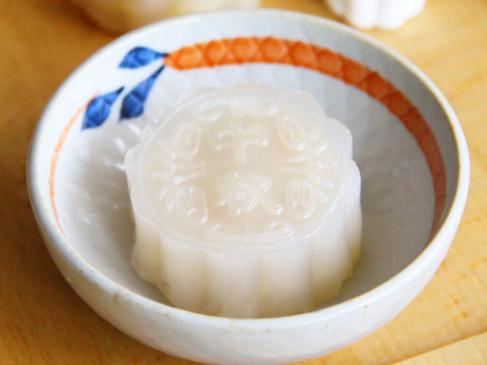MoonCake: (122, 79, 362, 317)
